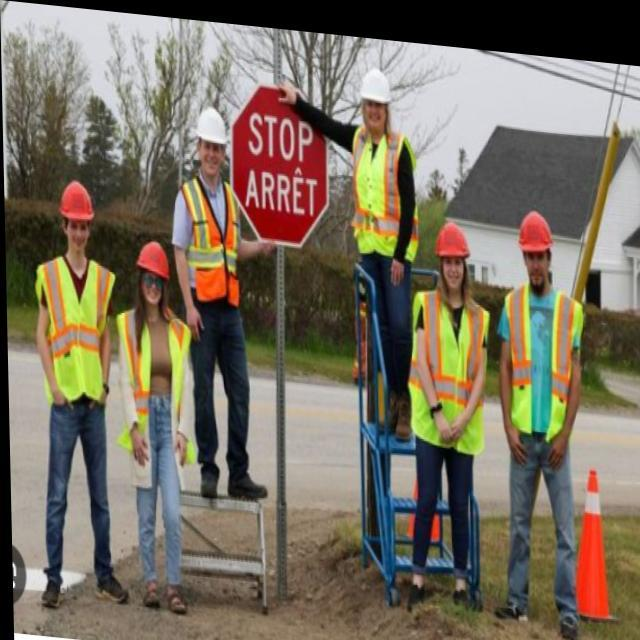boots: (40, 558, 133, 622), (492, 591, 585, 640), (397, 571, 485, 620), (195, 455, 271, 510), (379, 377, 419, 445)
helmet: (513, 205, 555, 296), (56, 175, 99, 255), (430, 217, 473, 296), (356, 63, 394, 145), (131, 235, 172, 310), (193, 104, 231, 179)
vest: (406, 282, 495, 462), (111, 298, 202, 468), (27, 246, 119, 413), (503, 277, 590, 452), (350, 123, 423, 270), (181, 173, 248, 316)
